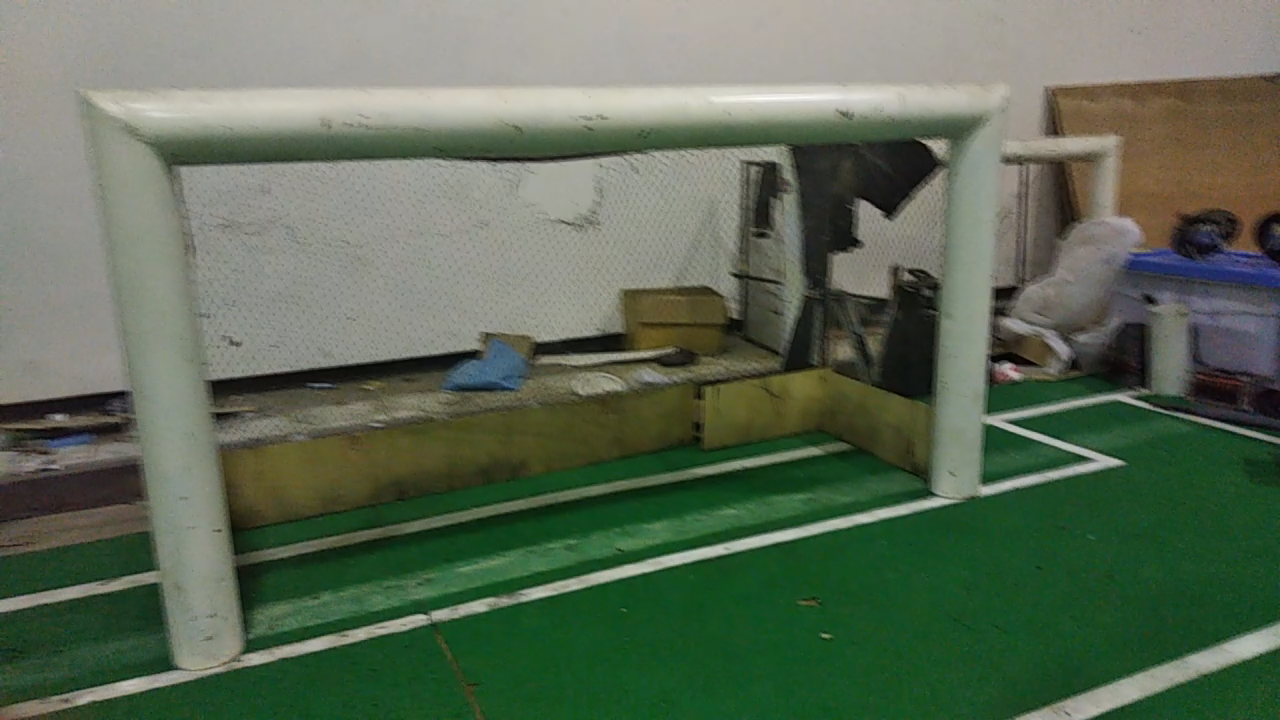gawang: (63, 70, 1021, 686)
